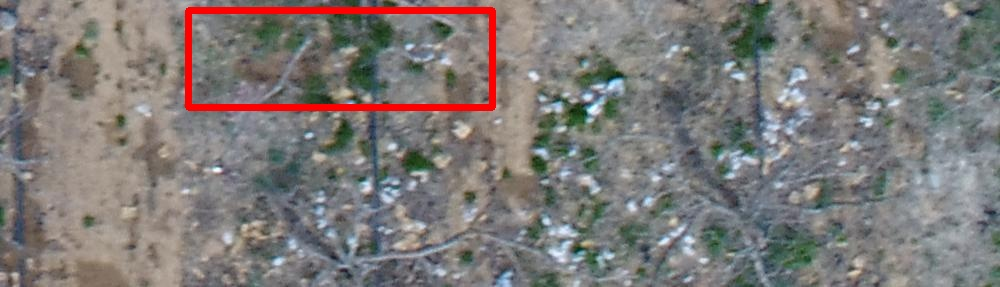apple: (188, 10, 492, 107)
